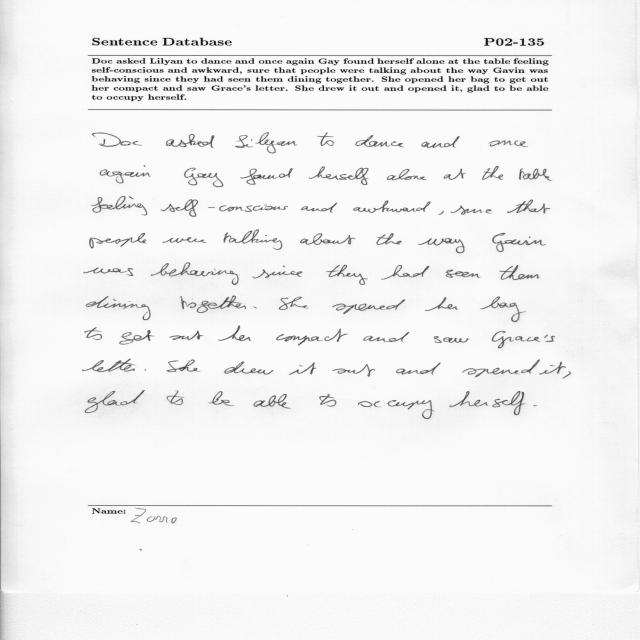word: (160, 199, 288, 217), (150, 263, 239, 285), (450, 391, 526, 415), (86, 297, 151, 321), (358, 400, 435, 419), (462, 360, 540, 378), (85, 391, 145, 414), (236, 133, 298, 154), (276, 329, 348, 346), (480, 296, 526, 322), (224, 230, 283, 250), (309, 166, 369, 185), (181, 296, 247, 313), (333, 299, 406, 314), (492, 331, 555, 348), (92, 197, 148, 216), (492, 233, 546, 252), (353, 200, 431, 213), (100, 166, 151, 184), (240, 168, 293, 185), (90, 233, 146, 249), (326, 265, 368, 285), (184, 168, 224, 187), (381, 265, 429, 280), (418, 238, 465, 253), (82, 359, 136, 372), (92, 133, 142, 147), (224, 361, 274, 375), (166, 134, 214, 148), (300, 233, 355, 245), (253, 266, 303, 279), (499, 265, 540, 280), (507, 200, 550, 214), (355, 135, 404, 147), (332, 364, 375, 377), (254, 394, 291, 409), (119, 330, 155, 345), (396, 363, 441, 375), (218, 326, 251, 341), (425, 297, 458, 311), (364, 332, 410, 342), (422, 136, 460, 148), (387, 169, 427, 180), (519, 168, 552, 181), (167, 359, 200, 372), (301, 202, 337, 213), (84, 268, 133, 276), (208, 391, 234, 406), (279, 297, 308, 310), (451, 206, 492, 215), (289, 362, 316, 375), (539, 362, 566, 375), (376, 233, 402, 245), (170, 331, 204, 340), (482, 166, 503, 180), (446, 270, 481, 278), (489, 140, 528, 147), (163, 237, 207, 243), (167, 390, 184, 405), (434, 336, 470, 343), (444, 169, 466, 180), (317, 133, 334, 146), (85, 327, 102, 340), (320, 394, 337, 407), (562, 371, 571, 379), (438, 211, 444, 215), (253, 307, 257, 309), (534, 405, 537, 406), (145, 369, 146, 371)
